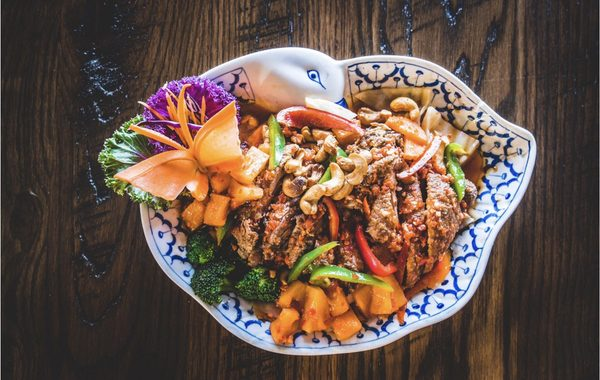curry: (187, 225, 280, 305)
sushi: (128, 47, 537, 359)
